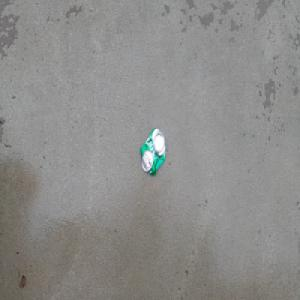SodaCan: (139, 126, 167, 178)
